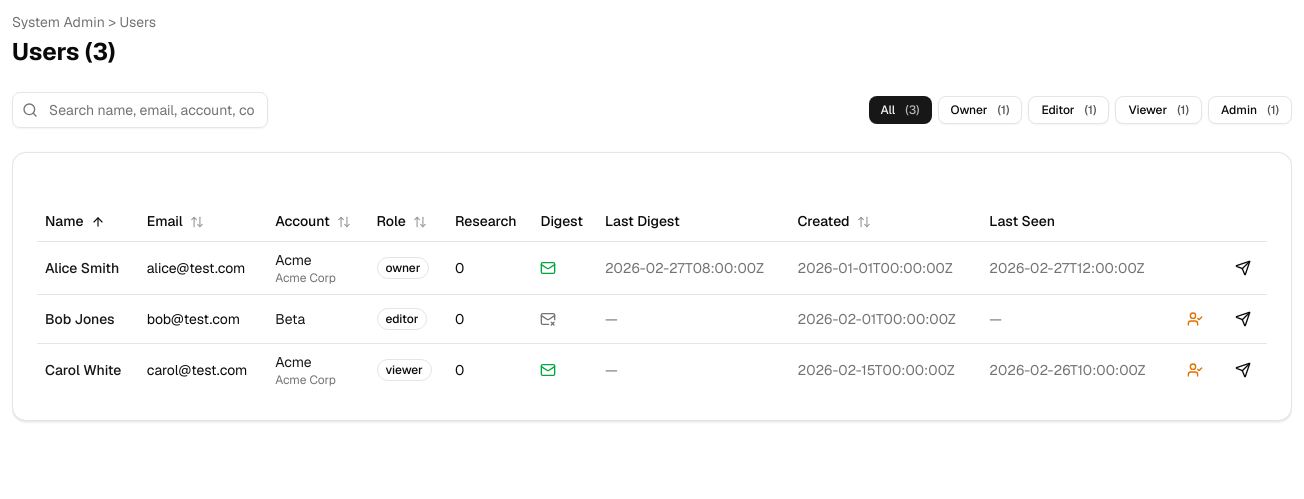
Scenario: UsersListPage › shows success message after sending digest
Check: the link "Alice Smith" is shown, box [45,258,119,276]
Click the button titled "Send digest email" in the row of "Alice Smith". click: [1243, 268]
box: [1227,252,1259,284]
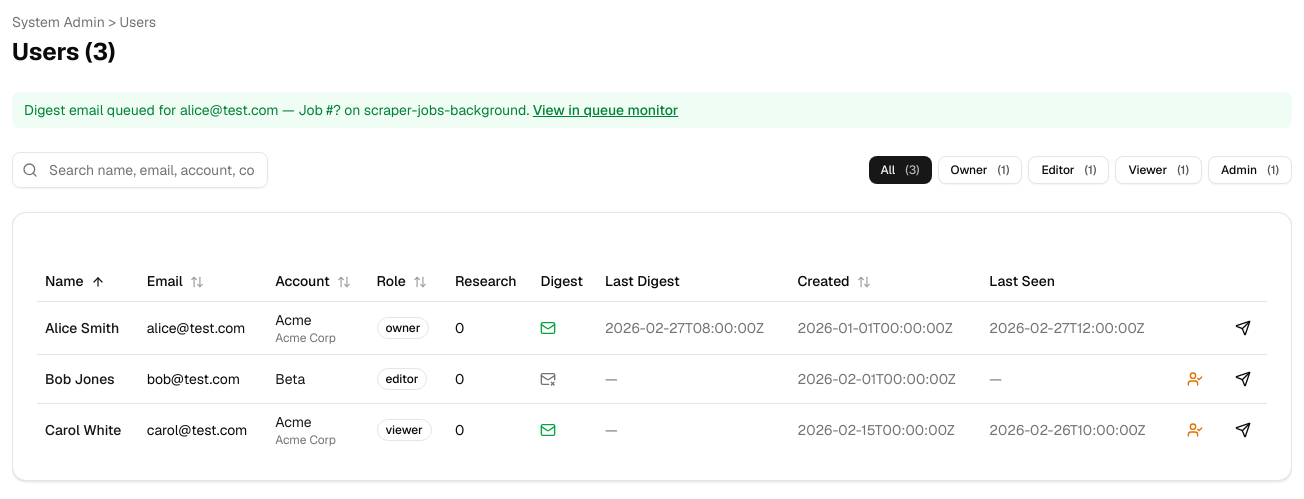
Check: the text "Digest email queued for alice@test.com" is shown, box [24,101,529,119]
